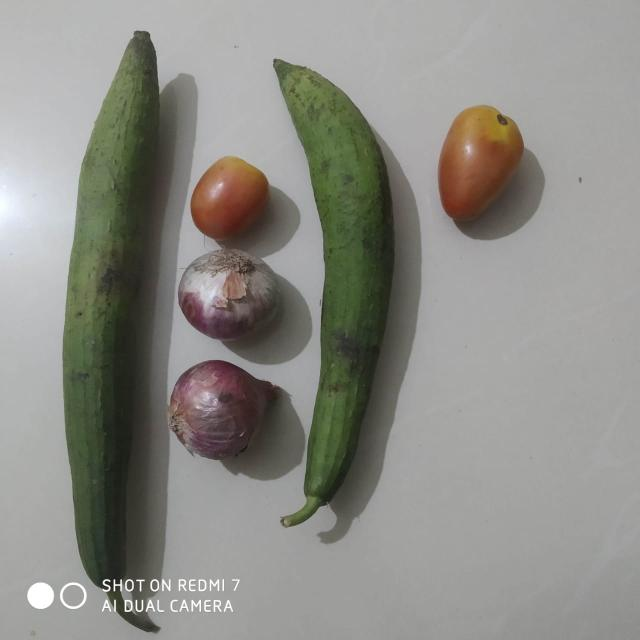Organik: (22, 21, 175, 640), (286, 50, 430, 528), (434, 88, 538, 235), (169, 355, 285, 462), (189, 145, 295, 245), (181, 250, 282, 343)
